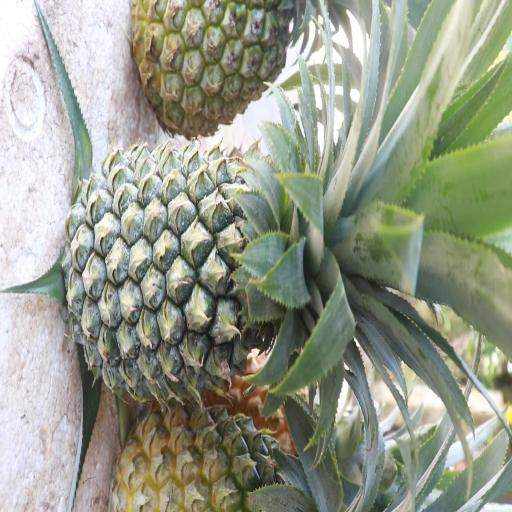------------------------------: (117, 397, 308, 512), (136, 0, 300, 133)
